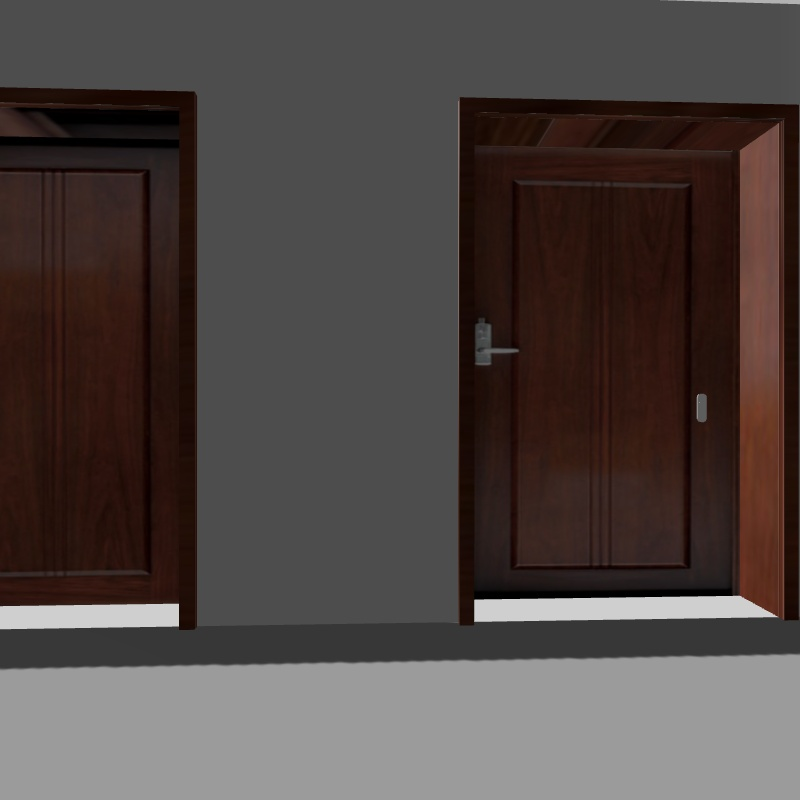handle: (465, 308, 521, 381)
